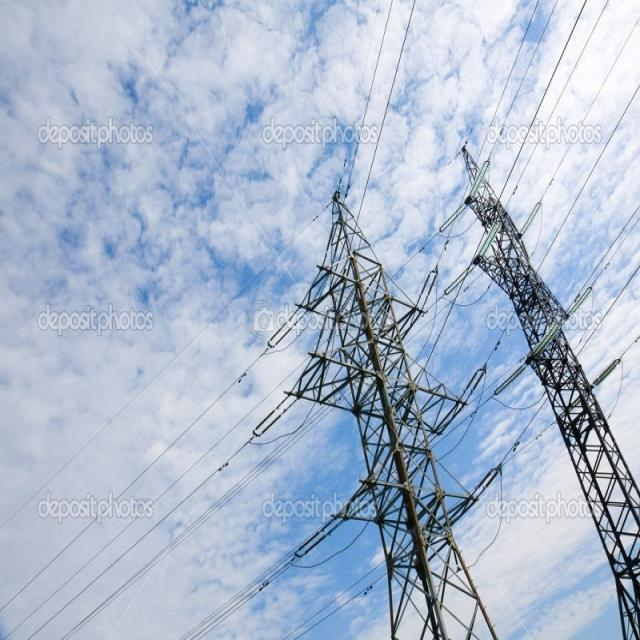non-critical vegetation: (264, 184, 486, 636), (452, 133, 636, 626)
